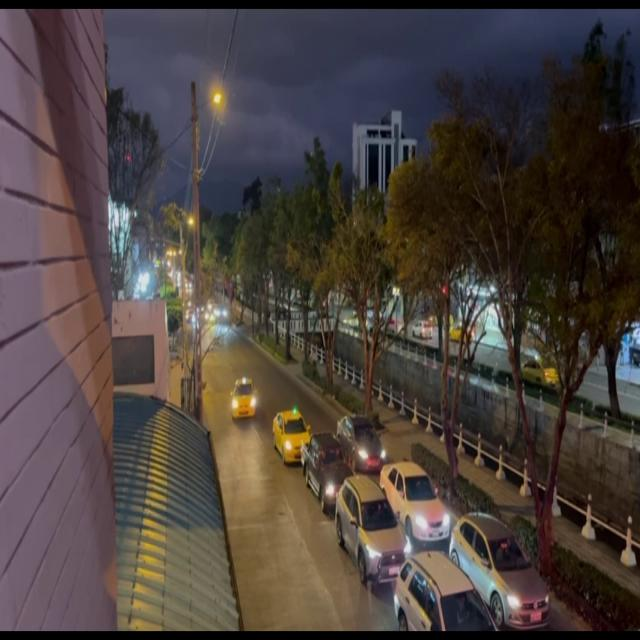CMT: (305, 432, 348, 504)
SUV: (398, 554, 484, 638), (338, 484, 404, 590)
